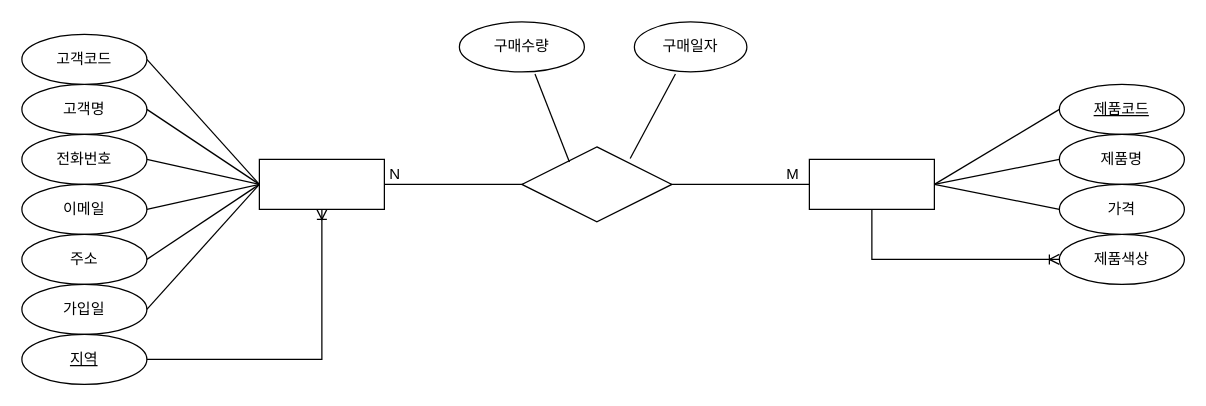
This 1206x406 diagram has some shape labels left out. The centre of each missing label's shape, as x and y in pixels:
"고객" goes at (x=321, y=183).
"구매" goes at (x=596, y=184).
"제품" goes at (x=871, y=183).
